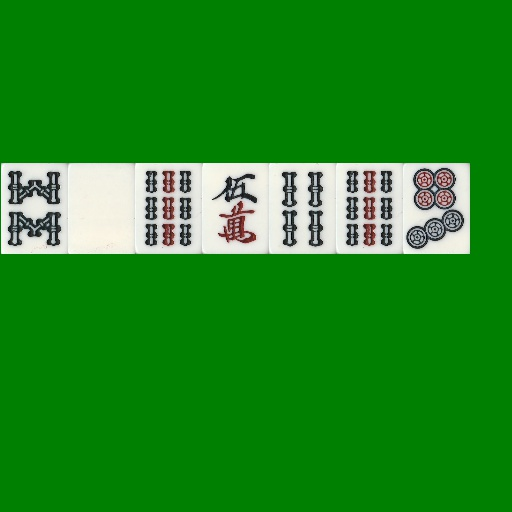4s: (269, 163, 336, 254)
5m: (202, 163, 269, 254)
7p: (403, 163, 470, 254)
8s: (1, 163, 68, 254)
9s: (135, 163, 202, 254), (336, 163, 403, 254)
white: (68, 163, 135, 254)
